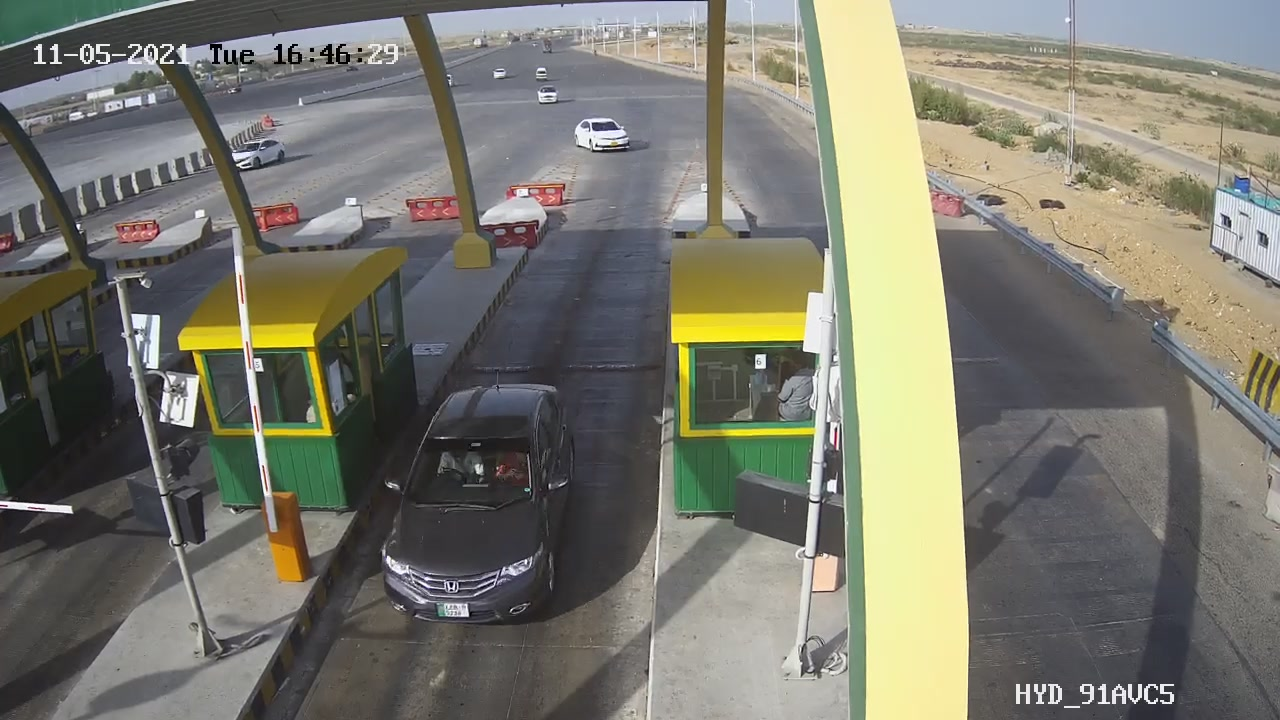F1: (357, 370, 600, 642)
